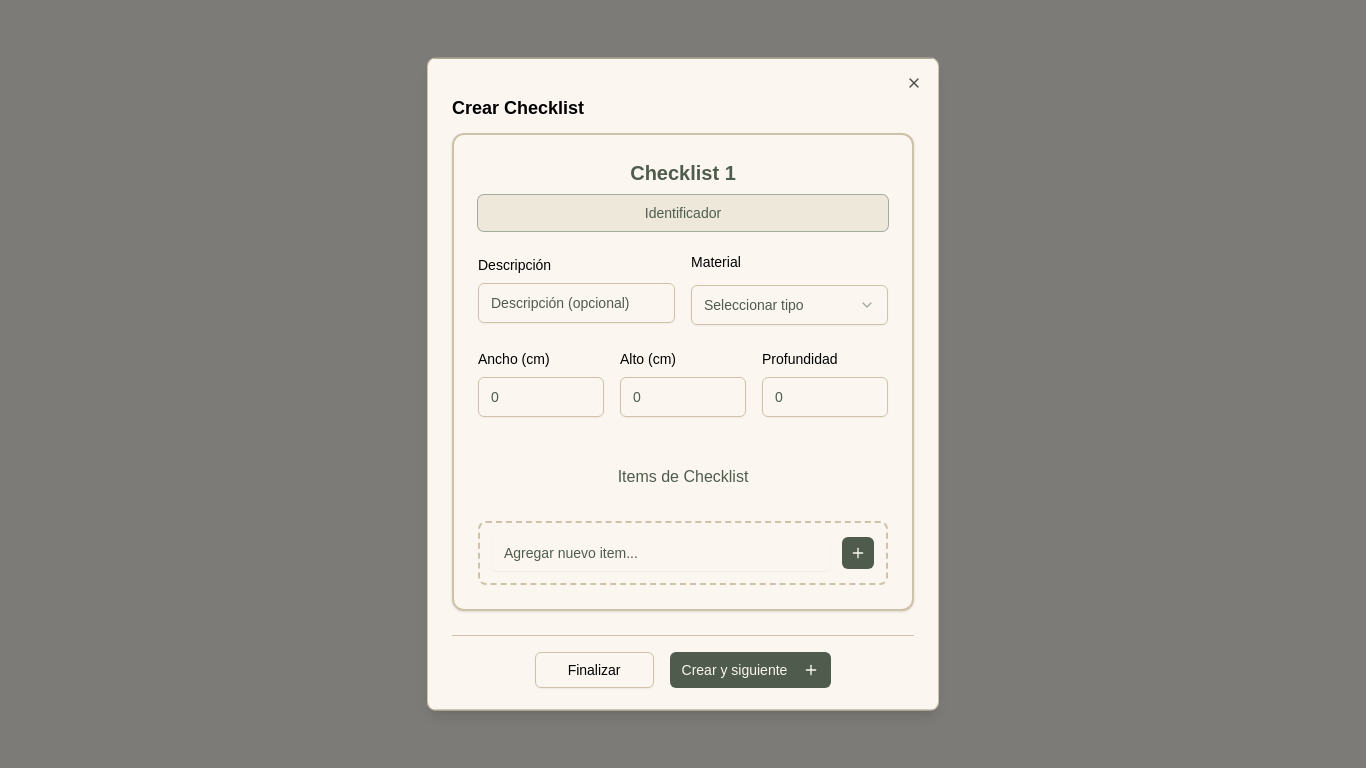
Test: ChecklistModal › displays created count badge after saving
This screenshot has width=1366, height=768.
Expected: the text "creada" is not shown
Click the button "Crear y siguiente" at (750, 670), box 670,652 -> 831,688
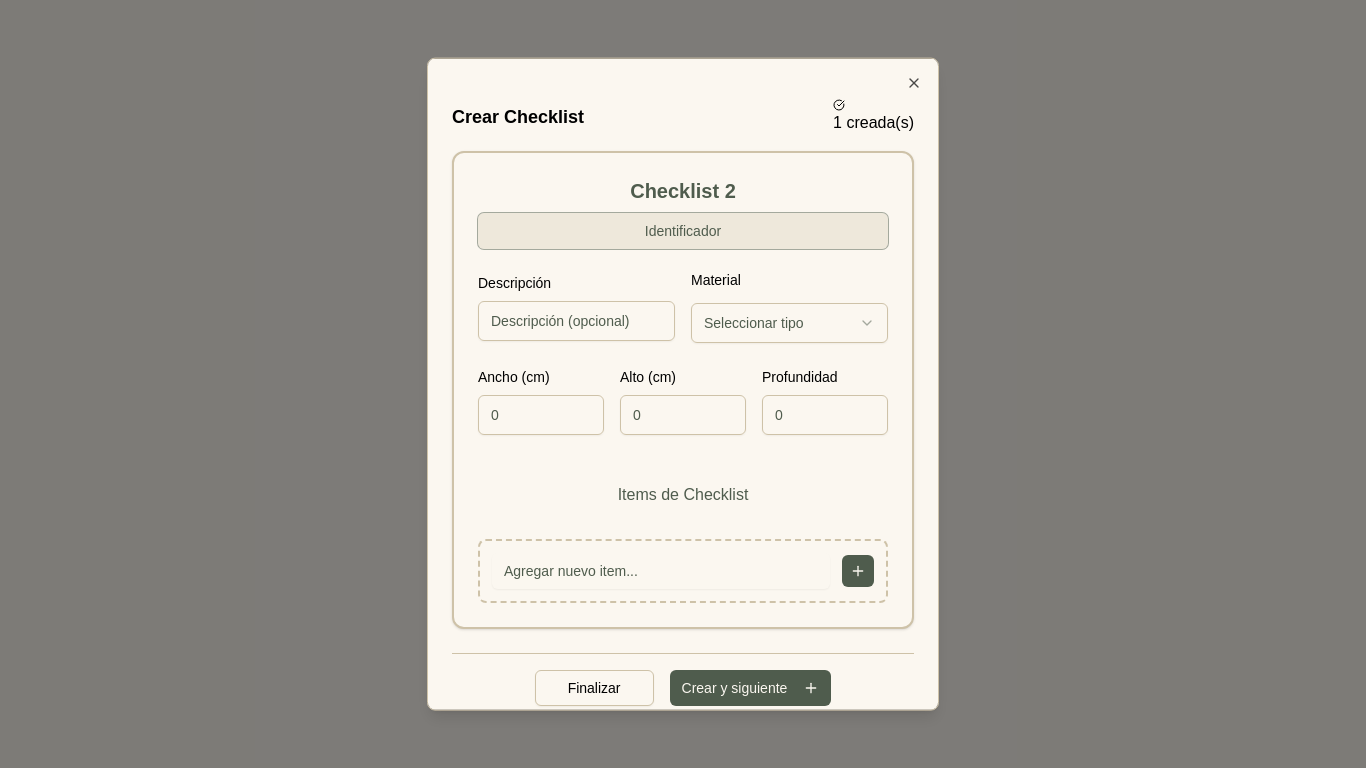
Expected: the text "1 creada(s)" is shown, 833,99 -> 914,135
